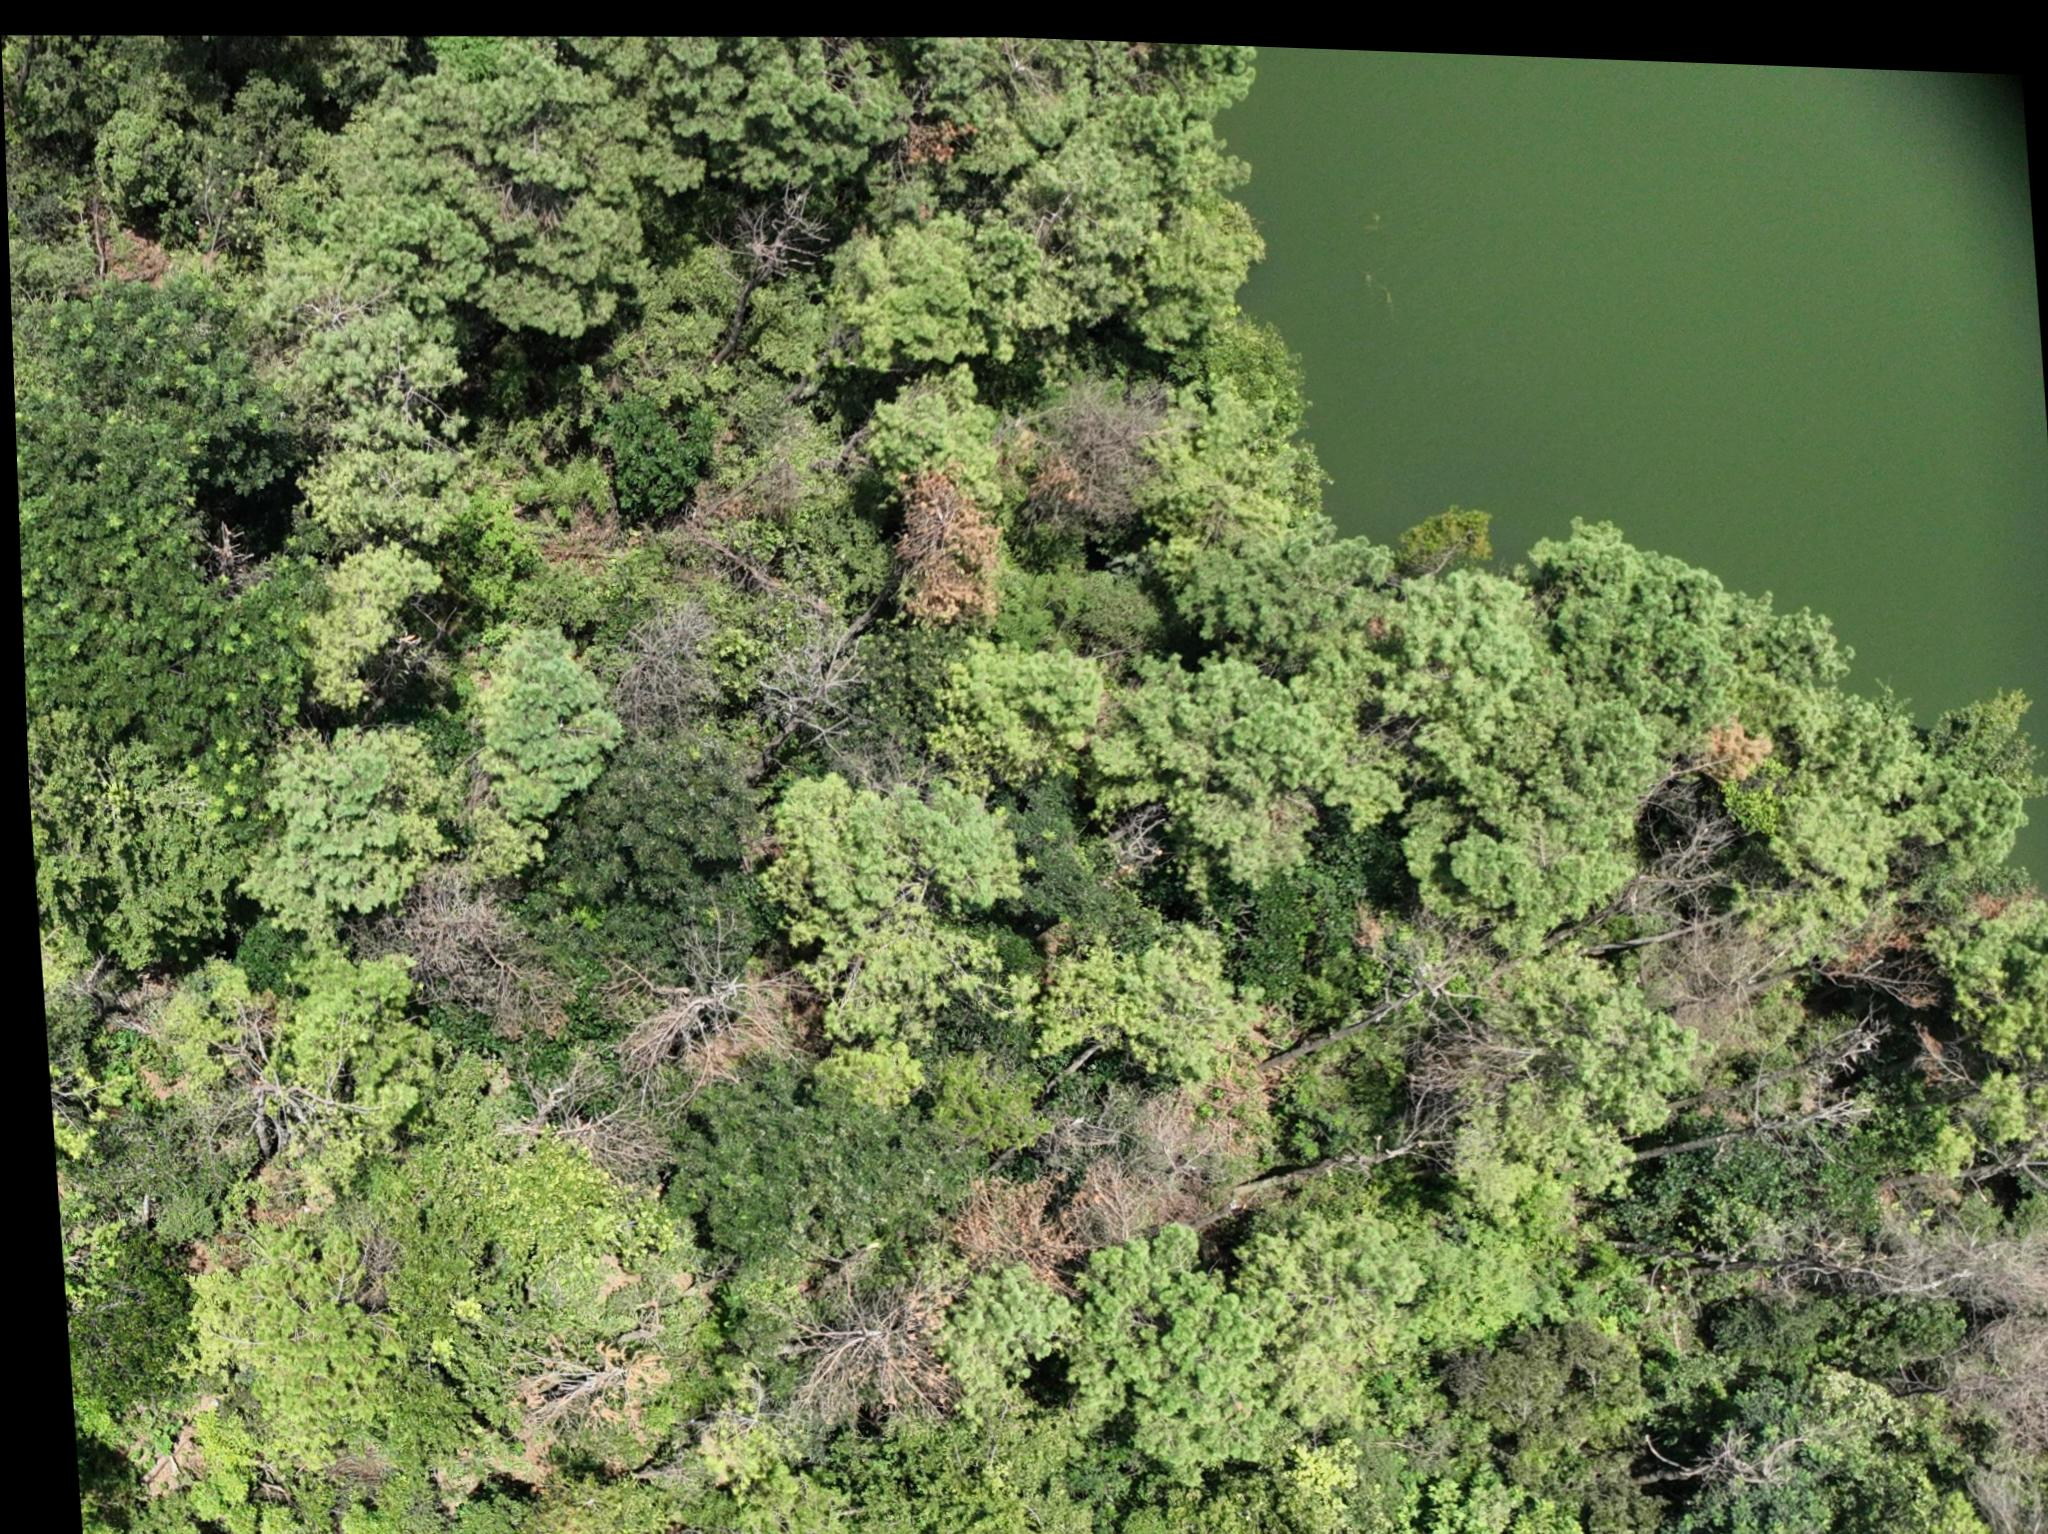dead: (1888, 1191, 2048, 1502), (383, 867, 509, 1018), (593, 591, 714, 728)
heavy: (620, 927, 807, 1081), (1076, 1084, 1225, 1238), (778, 1284, 930, 1428), (501, 1328, 659, 1453), (925, 1149, 1060, 1289), (888, 454, 999, 624)
